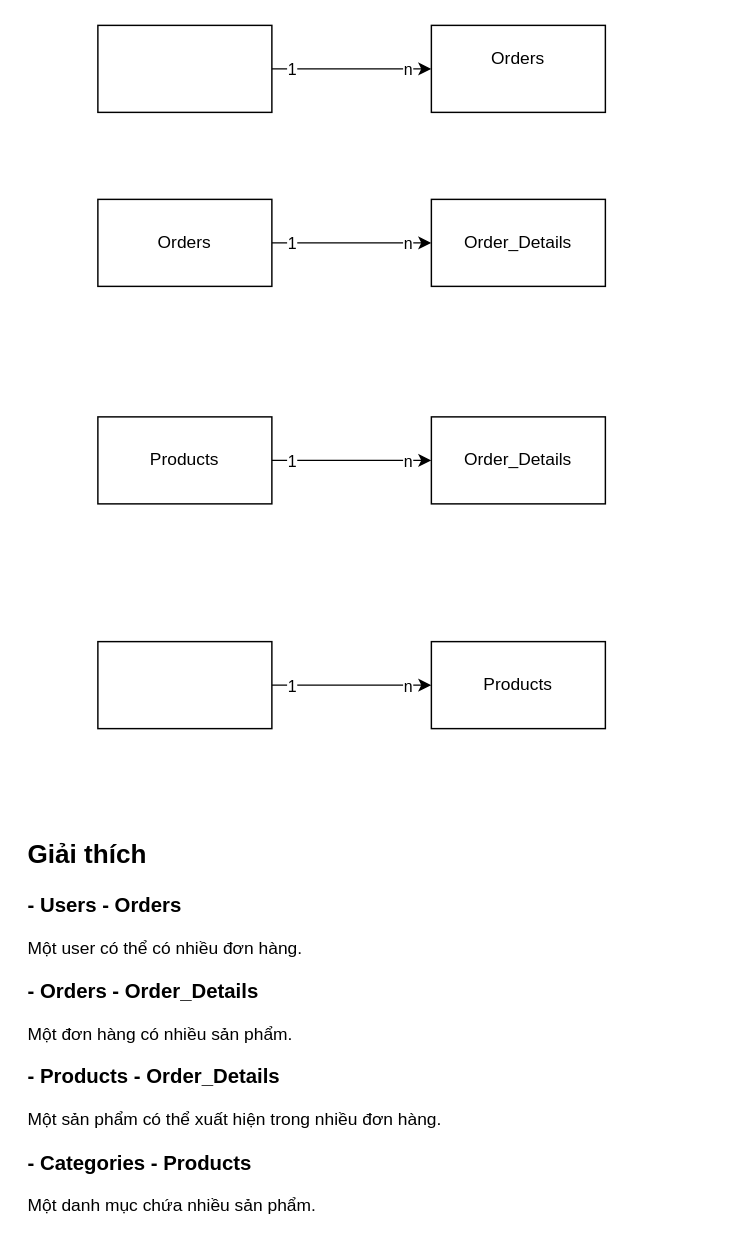
Image size: 745x1259. Some labels were removed from this diagram. The centre of each missing label's shape, as x and y in pixels:
Categories: point (184, 684)
Users: point (184, 68)
